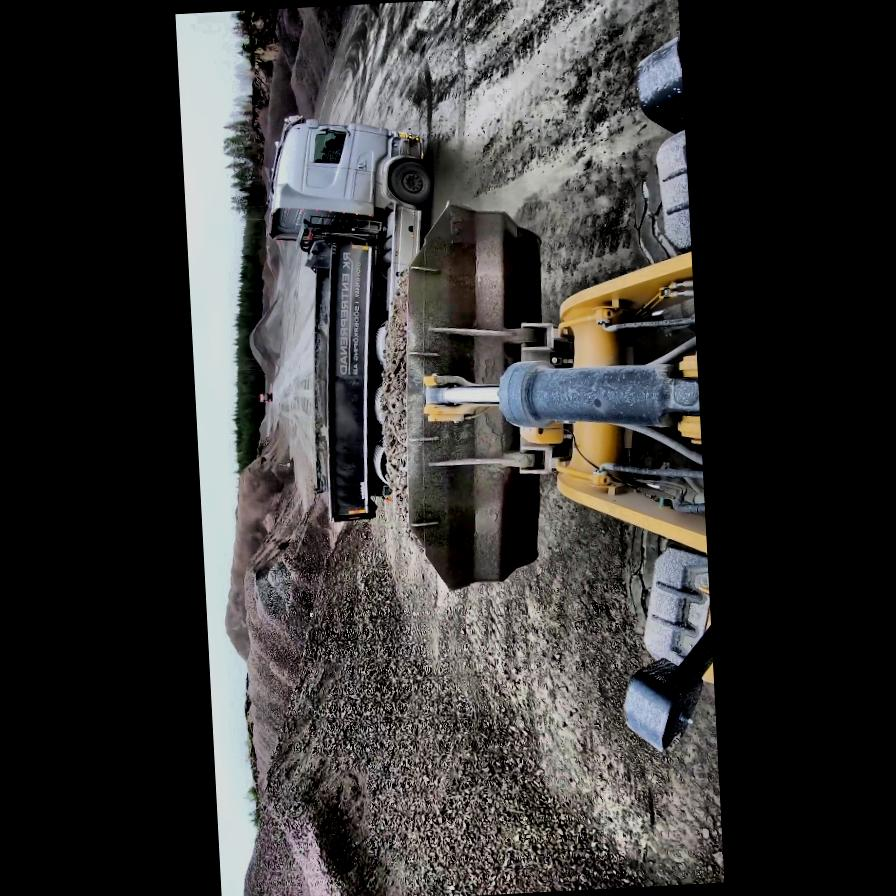anchor: (418, 371, 500, 426)
pile of gravel: (224, 505, 638, 896), (237, 498, 342, 804), (216, 447, 307, 638), (238, 787, 369, 896), (243, 7, 316, 192), (281, 4, 370, 116), (244, 293, 284, 384), (251, 420, 291, 484)
